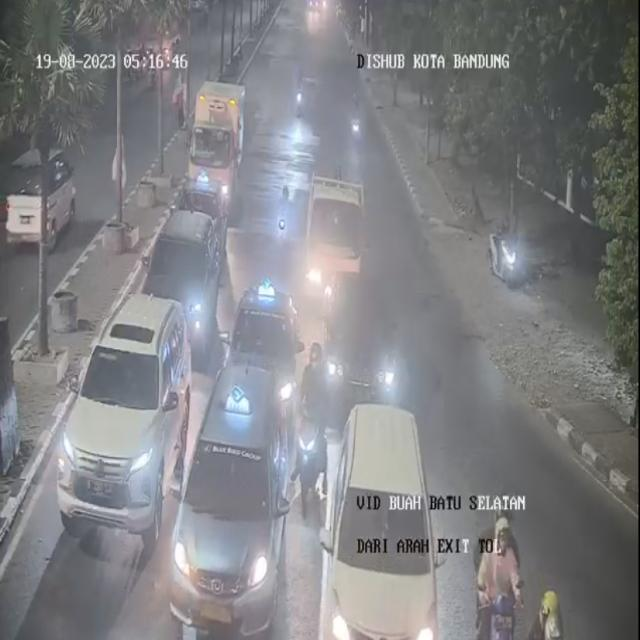cars: (170, 339, 298, 640), (53, 294, 188, 556), (324, 398, 448, 640), (222, 282, 306, 449), (301, 164, 370, 341), (143, 208, 220, 358)
motorcycle: (472, 504, 523, 638), (526, 583, 568, 640), (344, 93, 368, 150)
truck: (187, 80, 246, 209)
